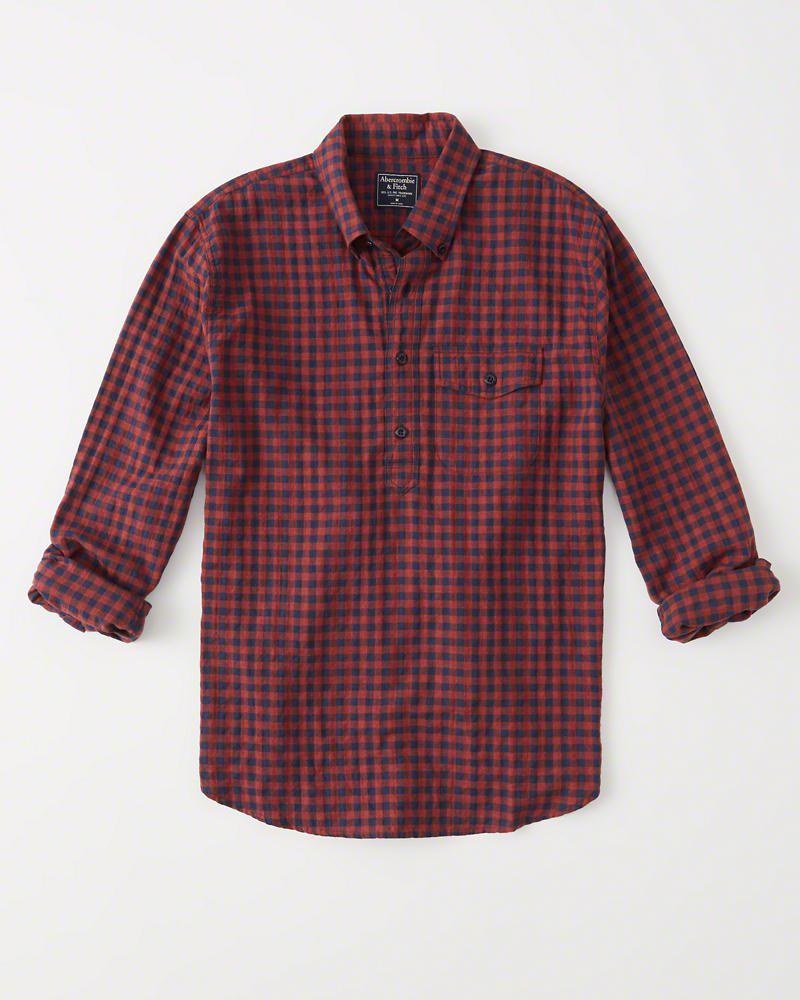teeshirt: (23, 110, 783, 859)
